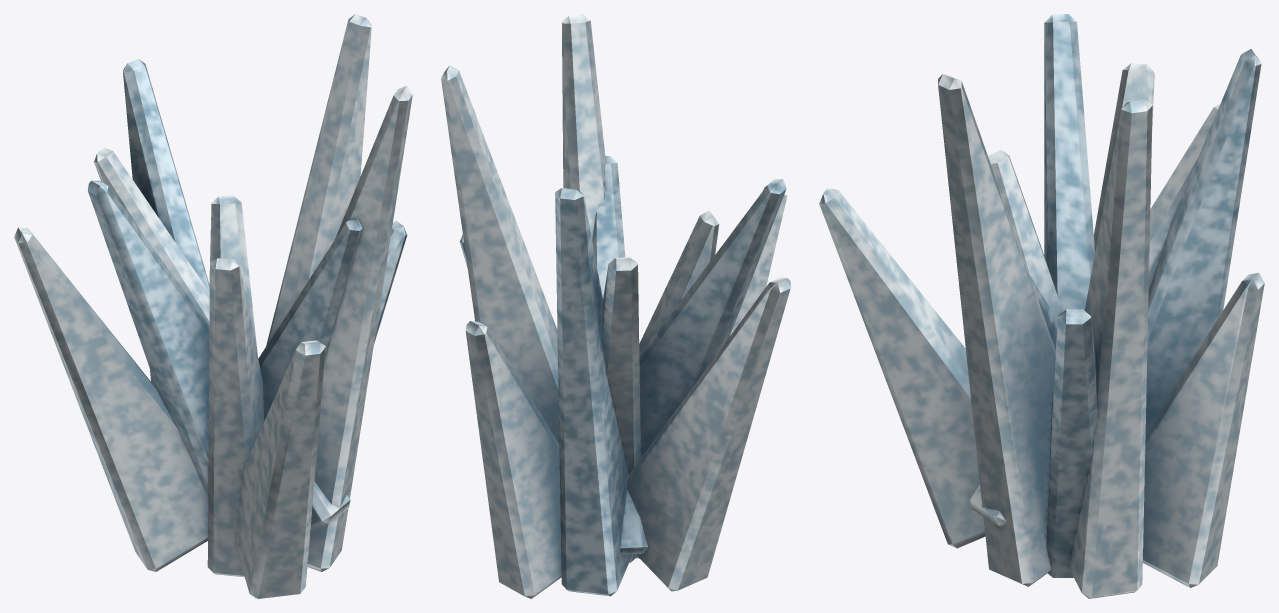
Rendered from Glace_Touffe.fbx.
3 views of the same model, side by side, from view 1: azimuth 30°, elevation 25°; view 2: azimuth 150°, elevation 25°; view 3: azimuth 270°, elevation 25° (orthographic). The views are drawn at different scales.
Visible parts, largest first — view 1: Glace_Touffe; view 2: Glace_Touffe; view 3: Glace_Touffe.
Boxes of the visible parts, x1,y1,x2,y2 form: Glace_Touffe: (14, 14, 412, 598); Glace_Touffe: (441, 14, 790, 598); Glace_Touffe: (819, 14, 1264, 598).
Size of the model in its own units: 211 by 274 by 208.
Materials: 1 (1 with a texture image).
